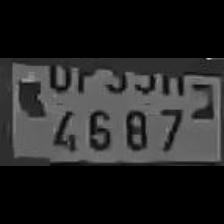3: (98, 58, 130, 94), (129, 58, 155, 94)
4: (47, 104, 79, 152)
6: (80, 104, 114, 152)
7: (154, 102, 184, 152)
8: (119, 104, 150, 152)
P: (71, 58, 97, 94)
U: (43, 58, 74, 92)
